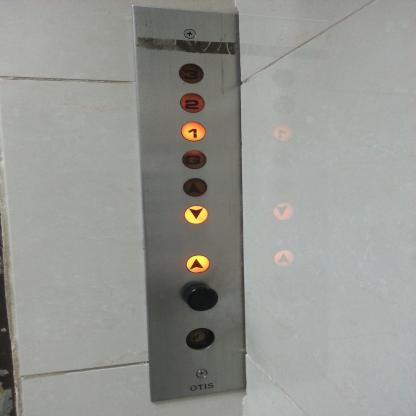1: (181, 121, 205, 142)
2: (179, 92, 206, 114)
3: (177, 63, 204, 84)
G: (180, 148, 209, 171)
down: (182, 204, 209, 226), (272, 202, 294, 220)
empty: (182, 283, 218, 312)
keyhole: (184, 326, 218, 352)
unknown: (272, 122, 294, 142)
up: (182, 176, 209, 198), (186, 254, 212, 274), (273, 250, 294, 267)
